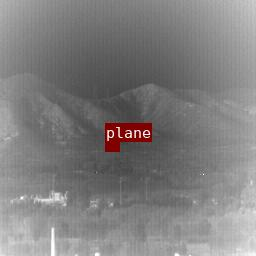plane: (105, 142, 119, 151)
